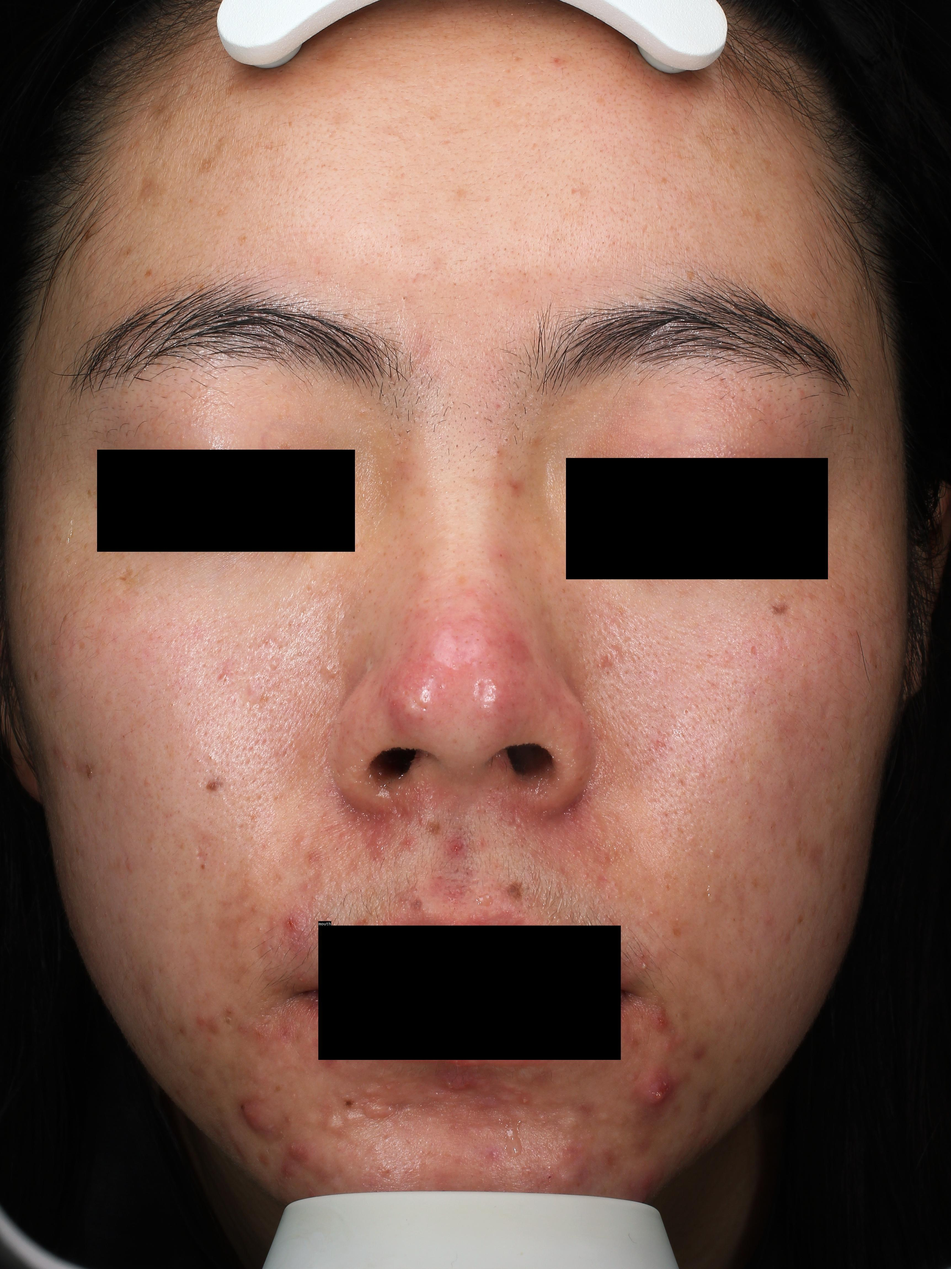atrophic_scar: (136, 168, 162, 206), (402, 688, 430, 714), (569, 177, 591, 199), (506, 809, 523, 835), (383, 125, 405, 140), (611, 642, 626, 664), (412, 271, 430, 287), (477, 678, 490, 700), (820, 698, 831, 722), (195, 845, 208, 863), (641, 223, 650, 237), (491, 98, 503, 108), (422, 689, 430, 703), (482, 193, 491, 204), (750, 645, 758, 657), (512, 55, 525, 62), (327, 130, 337, 139), (440, 139, 452, 146), (610, 206, 617, 215), (531, 142, 538, 151), (186, 753, 192, 761), (706, 654, 714, 660), (503, 68, 512, 73), (400, 173, 405, 179)
closed_comedo: (322, 662, 334, 674), (269, 659, 279, 670), (745, 773, 755, 782), (709, 849, 716, 856), (801, 663, 808, 668), (257, 927, 262, 933), (655, 204, 660, 209), (476, 410, 480, 416)
hypertrophic_scar: (362, 1102, 394, 1119), (558, 1107, 580, 1131), (325, 1112, 344, 1135), (421, 1086, 447, 1101), (515, 1068, 536, 1086), (302, 1111, 324, 1128), (510, 1108, 528, 1123), (363, 1083, 382, 1097), (497, 1092, 519, 1104), (347, 1112, 370, 1123), (502, 1081, 519, 1091), (597, 1112, 609, 1123), (515, 818, 522, 824)
melasma: (117, 562, 153, 591), (504, 879, 528, 904), (766, 600, 791, 615), (424, 820, 444, 835), (409, 894, 422, 910), (686, 270, 696, 286), (65, 553, 74, 566), (33, 535, 43, 546), (54, 533, 63, 543), (86, 489, 94, 499), (61, 614, 68, 625), (83, 542, 89, 550), (850, 425, 854, 434)
nevus: (205, 779, 225, 794), (342, 1094, 356, 1110)
nodule: (631, 1066, 678, 1118), (241, 1099, 283, 1140)
open_comedo: (494, 449, 501, 457), (395, 852, 402, 859), (207, 754, 213, 762), (194, 758, 201, 764), (312, 895, 318, 902), (401, 295, 407, 302), (683, 708, 689, 715), (334, 846, 340, 852), (504, 437, 509, 444), (297, 652, 303, 657), (359, 888, 364, 893), (556, 236, 561, 241), (339, 888, 344, 892), (770, 825, 774, 830)
papule: (284, 913, 308, 939), (444, 1073, 472, 1092), (285, 1142, 308, 1164), (651, 1011, 669, 1031), (251, 1026, 270, 1043), (639, 1173, 655, 1191), (280, 1163, 294, 1177), (372, 833, 384, 849), (542, 1171, 556, 1184), (209, 1022, 220, 1035), (488, 1150, 499, 1161), (219, 670, 229, 681), (337, 832, 349, 841), (402, 838, 414, 847), (765, 911, 773, 924), (663, 1042, 673, 1052), (600, 656, 607, 665), (62, 759, 68, 767), (420, 817, 425, 825)
pustule: (520, 1093, 532, 1105), (640, 959, 649, 971)
